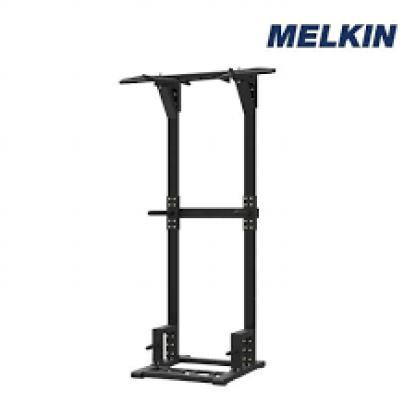chinning dipping: (120, 66, 276, 388)
